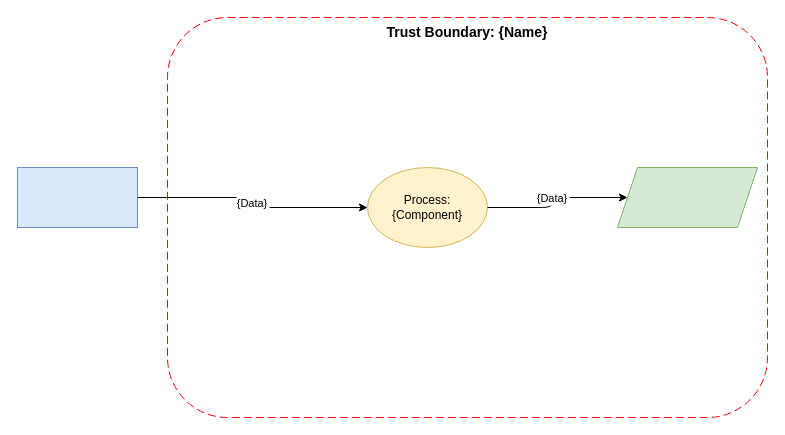
Some shapes in this 785 by 435 pixel diagram are drawn without their labels. Here are the shapes that lost their labels. From the top down, the box of each, then its label:
(16, 166, 138, 228): External Entity: {User/System}
(616, 166, 758, 228): Data Store: {Database/File}
